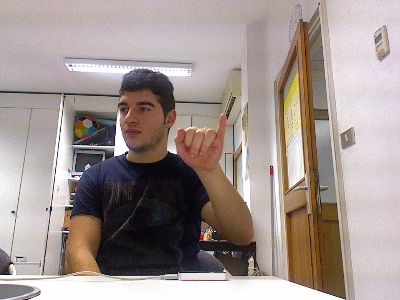小指: (173, 113, 226, 171)
